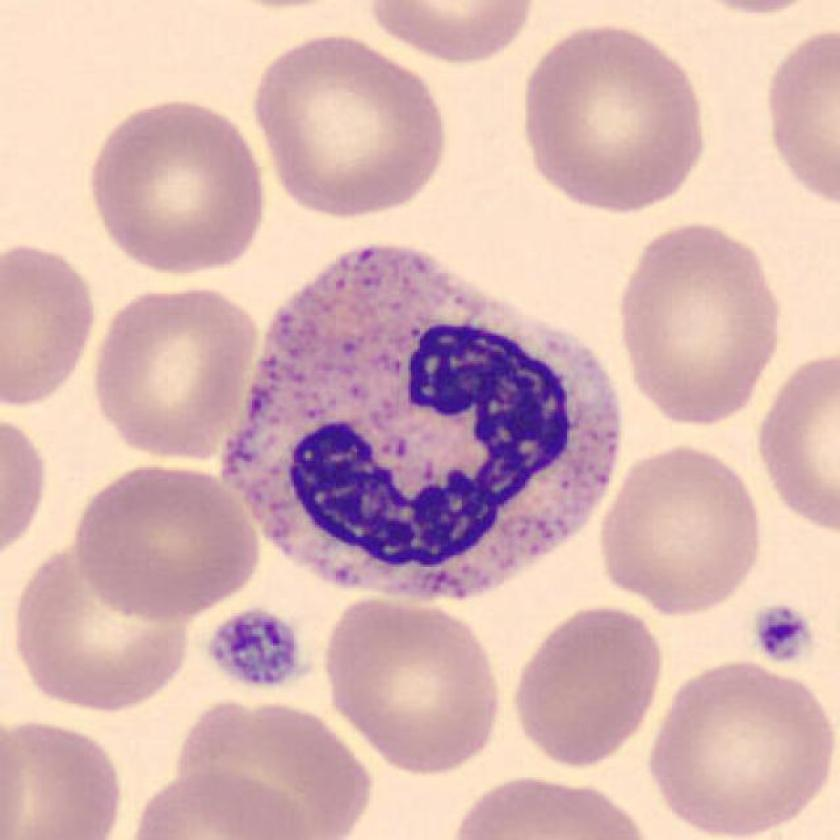neutrophil: (226, 243, 620, 600)
